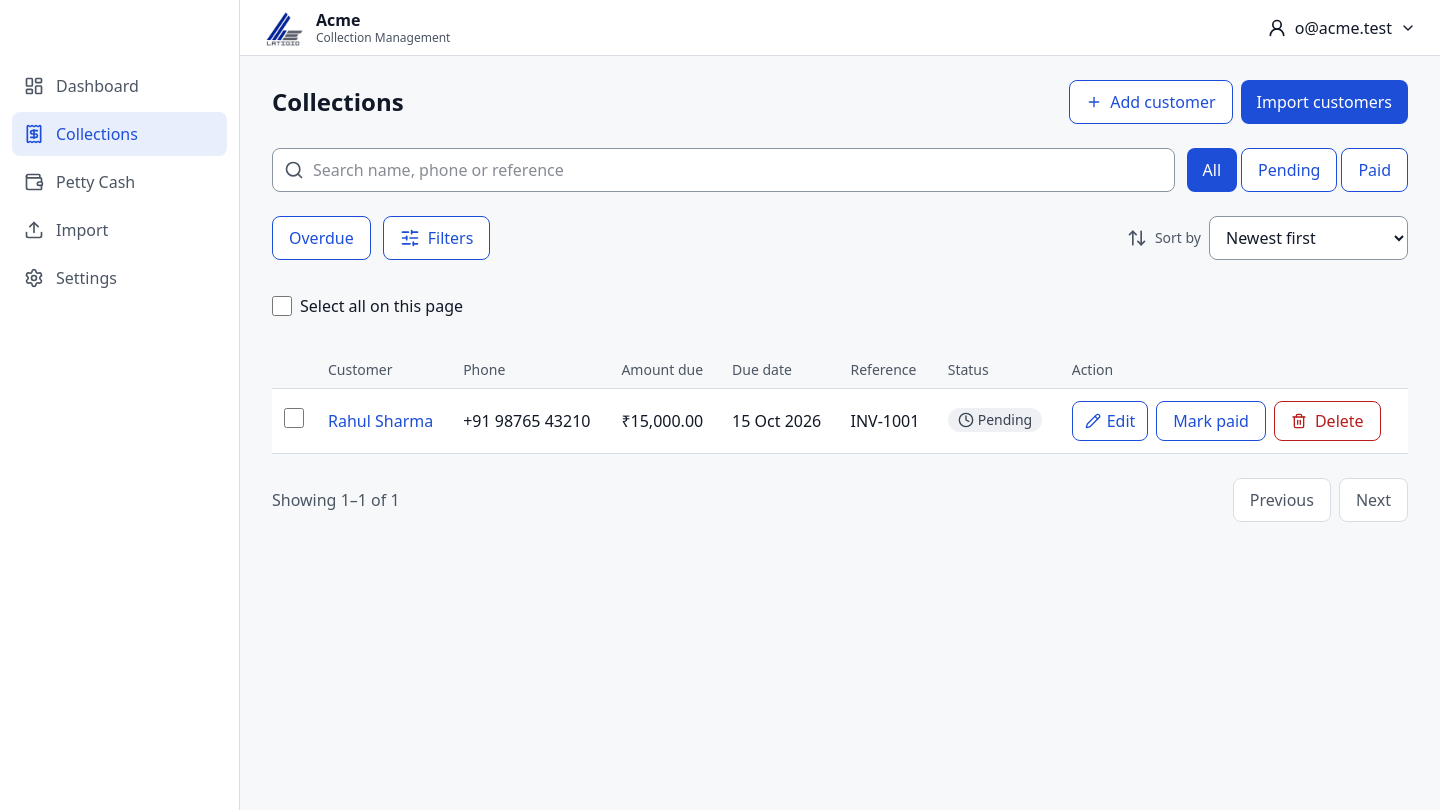
Scenario: Collections list extras › shows a readable error and keeps the dialog when marking paid fails
Click the button with aria-label "Mark paid for Rahul Sharma" at (1211, 421), box [1156,401,1266,441]
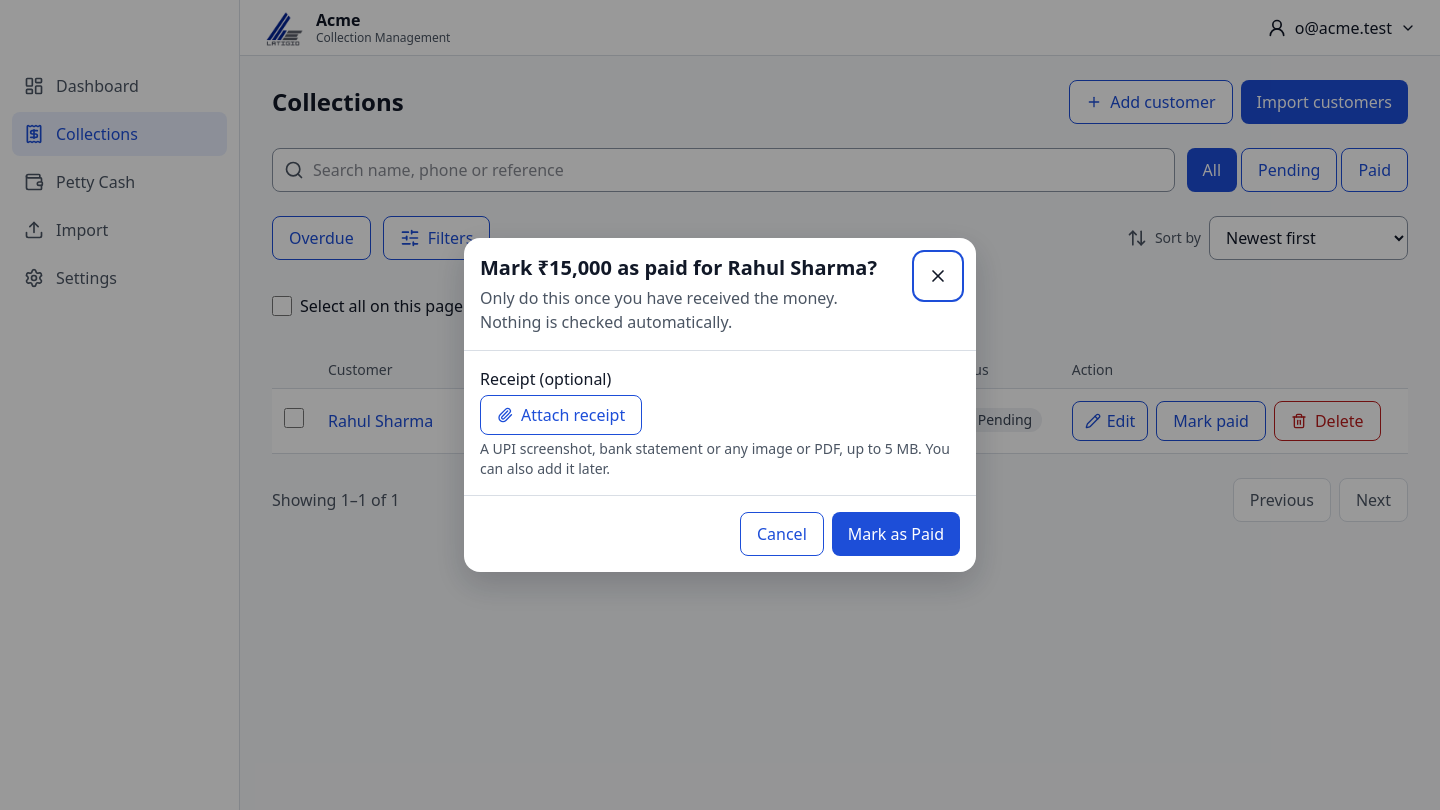
Click the button "Mark as Paid" at (896, 534), box [832,512,960,556]
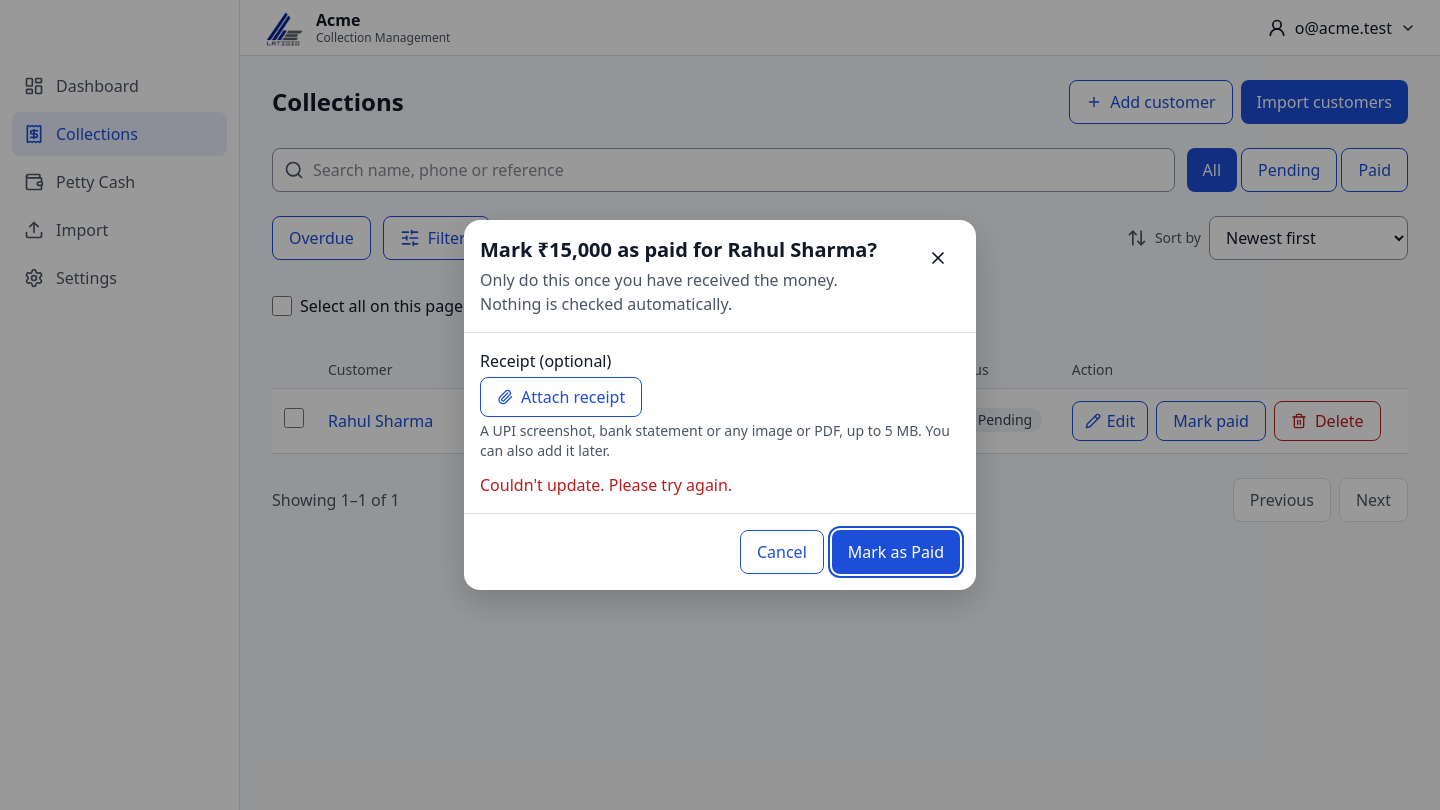
Now the text "Couldn't update. Please try again." is shown, box [480,474,732,496]
